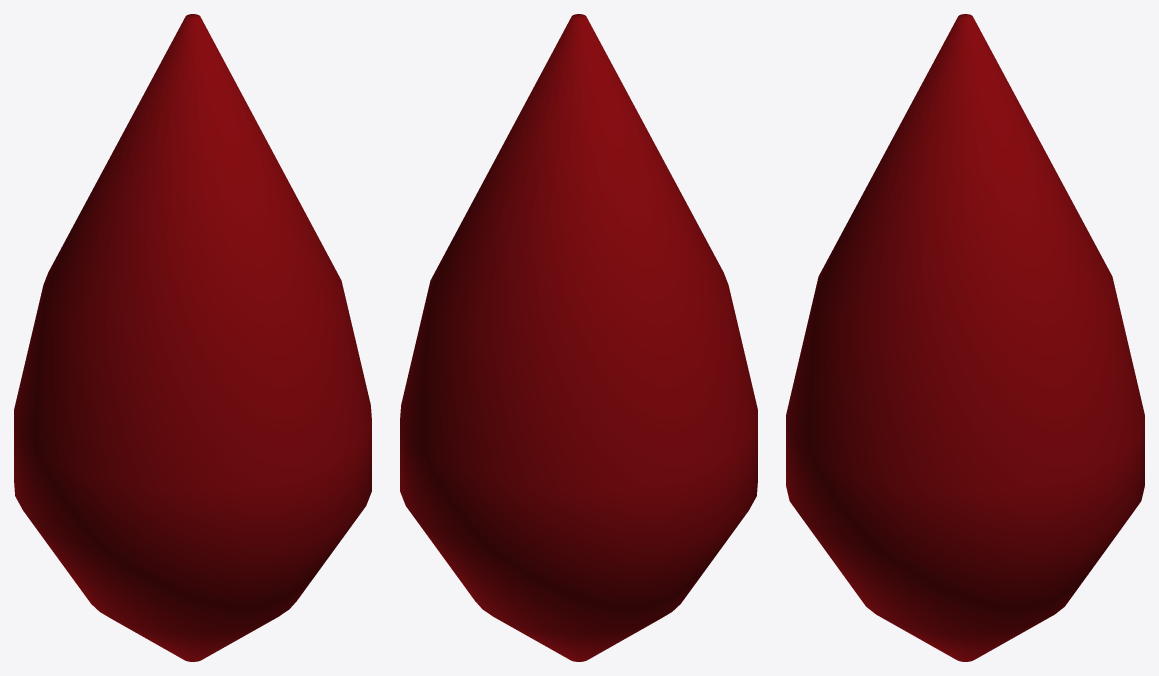
The picture shows the model from 3 angles, left to right: view 1: azimuth 30°, elevation 25°; view 2: azimuth 150°, elevation 25°; view 3: azimuth 270°, elevation 25°; orthographic projection.
Parts seen in each view (by area): view 1: Cylinder; view 2: Cylinder; view 3: Cylinder.
Boxes of the visible parts, <box> form: Cylinder: <box>14,14,371,661</box>; Cylinder: <box>400,14,757,661</box>; Cylinder: <box>786,14,1144,661</box>.
Bounding box in the file's own units: 239 × 471 × 239.
